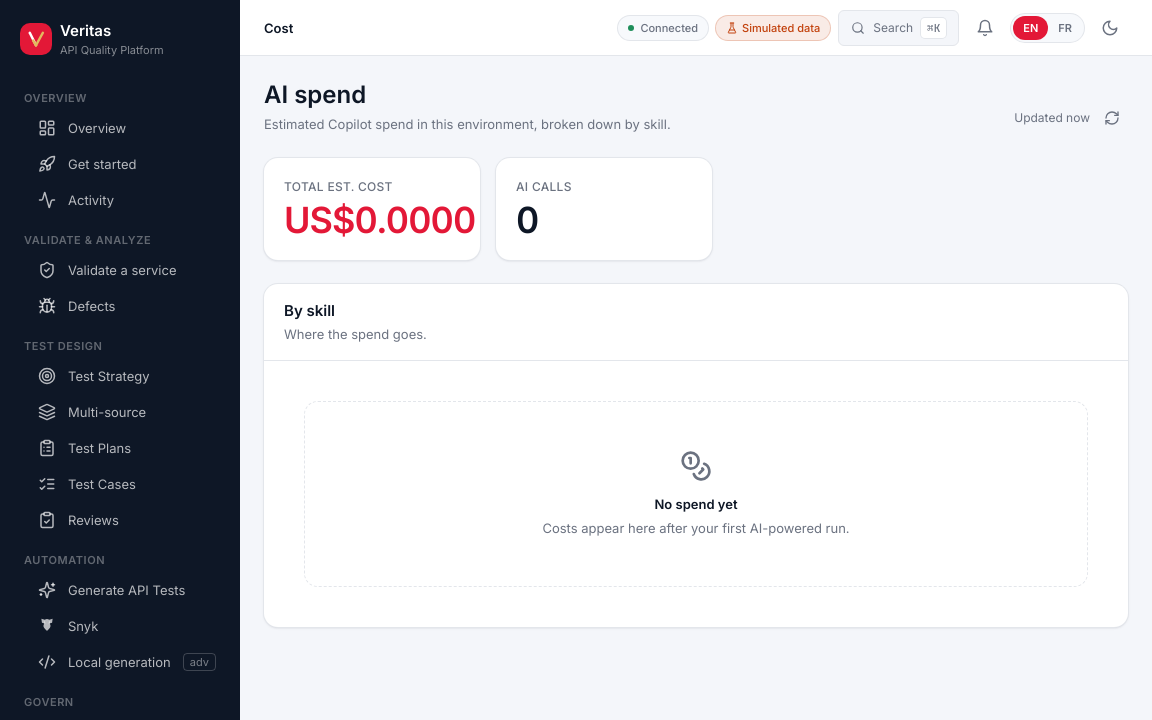
Test: App shell — navigation changes the route › returns to the Overview when the Overview link is clicked from another page
This screenshot has width=1152, height=720.
Expected: the heading "AI spend" is shown, [264,80,366,109]
Click the link "Overview" at (82, 128), box [38,119,126,137]
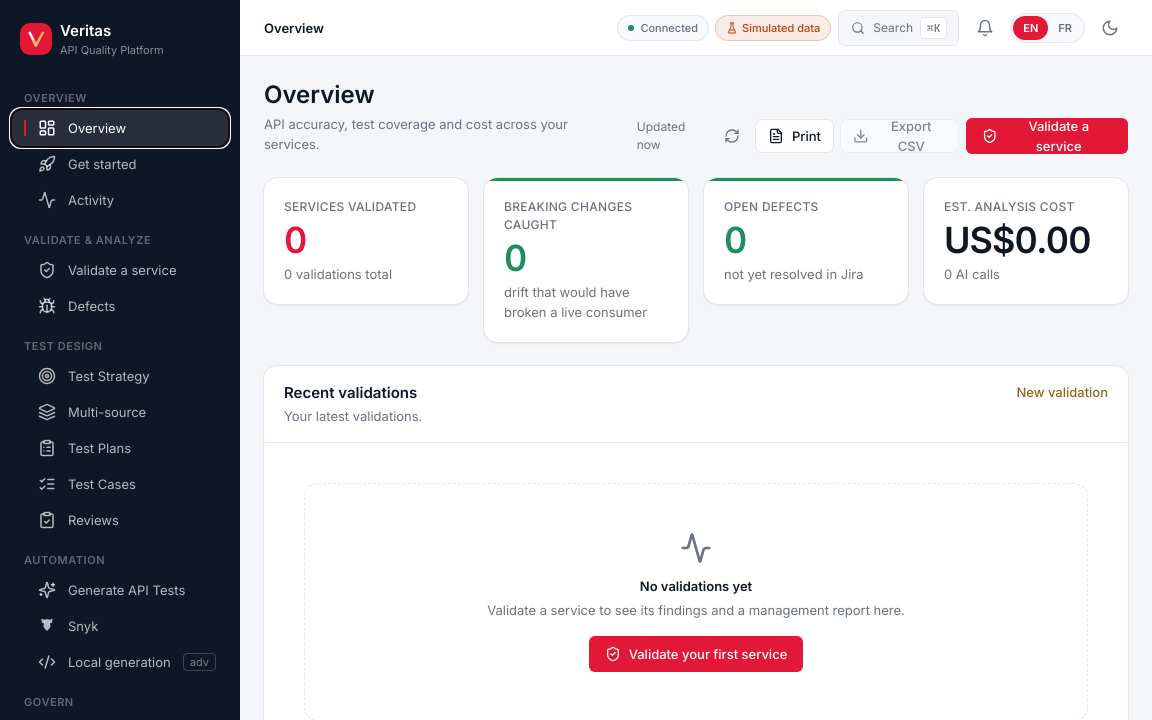
Expected: the heading "Overview" is shown, [264,80,374,109]
